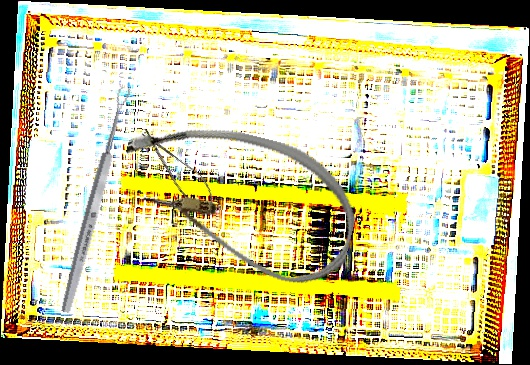Cannula: (104, 106, 370, 295)
Micro Scissor: (131, 121, 227, 221)
Surgical Spoon: (58, 86, 133, 314)
